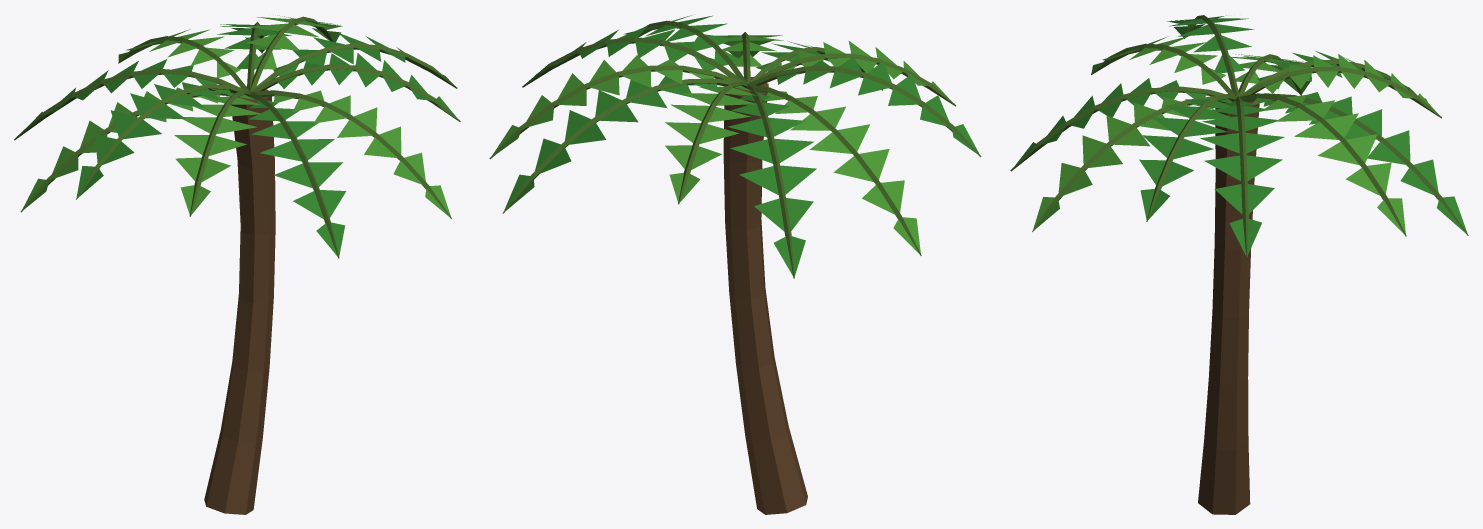
The model's file is tree_fern.glb.
3 views of the same model, side by side, from view 1: azimuth 30°, elevation 25°; view 2: azimuth 150°, elevation 25°; view 3: azimuth 270°, elevation 25° (orthographic). The views are drawn at different scales.
Visible parts, largest first — view 1: tree_fern; view 2: tree_fern; view 3: tree_fern.
Boxes of the visible parts, x1,y1,x2,y2 form: tree_fern: (14, 15, 460, 514); tree_fern: (489, 15, 981, 514); tree_fern: (1010, 15, 1468, 514).
Size of the model in its own units: 3.67 by 3.71 by 3.42.
